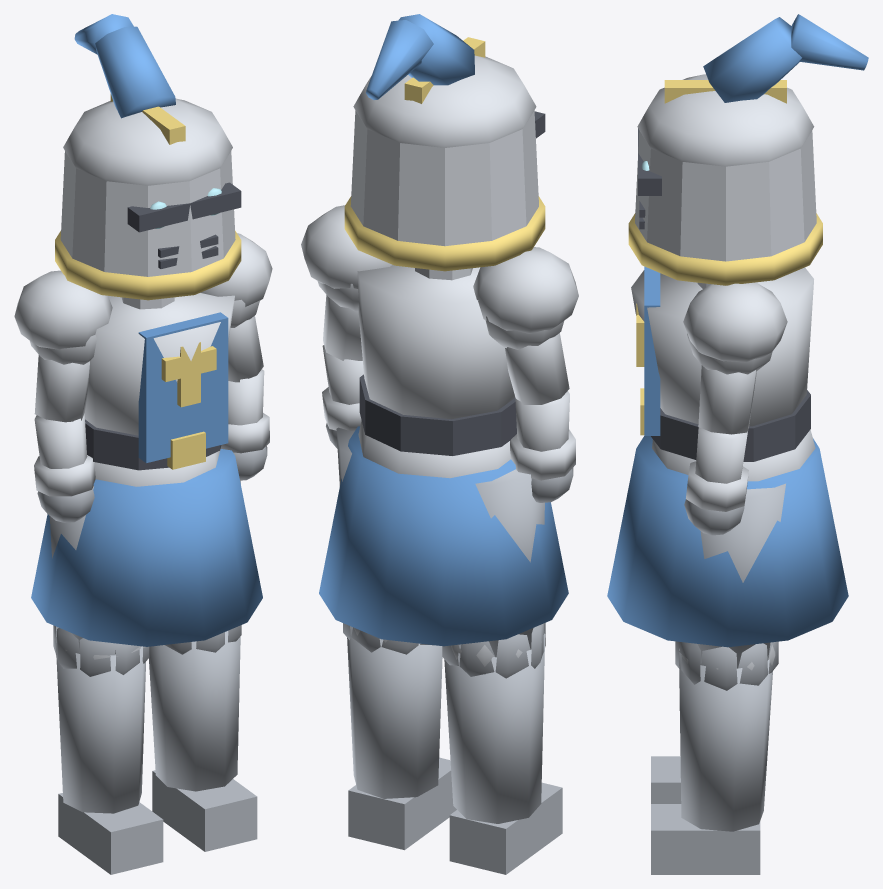
The model's file is meeple_08_ritter_stand.glb.
The picture shows the model from 3 angles, left to right: view 1: azimuth 30°, elevation 25°; view 2: azimuth 150°, elevation 25°; view 3: azimuth 270°, elevation 25°; orthographic projection. The views are drawn at different scales.
Parts seen in each view (by area): view 1: meeple_08_ritter_stand; view 2: meeple_08_ritter_stand; view 3: meeple_08_ritter_stand.
Part boxes in pixels (bbox=[...]): meeple_08_ritter_stand: bbox=[14, 14, 272, 874]; meeple_08_ritter_stand: bbox=[301, 14, 578, 874]; meeple_08_ritter_stand: bbox=[607, 14, 868, 874].
Size of the model in its own units: 0.5468 by 1.7 by 0.4908.
